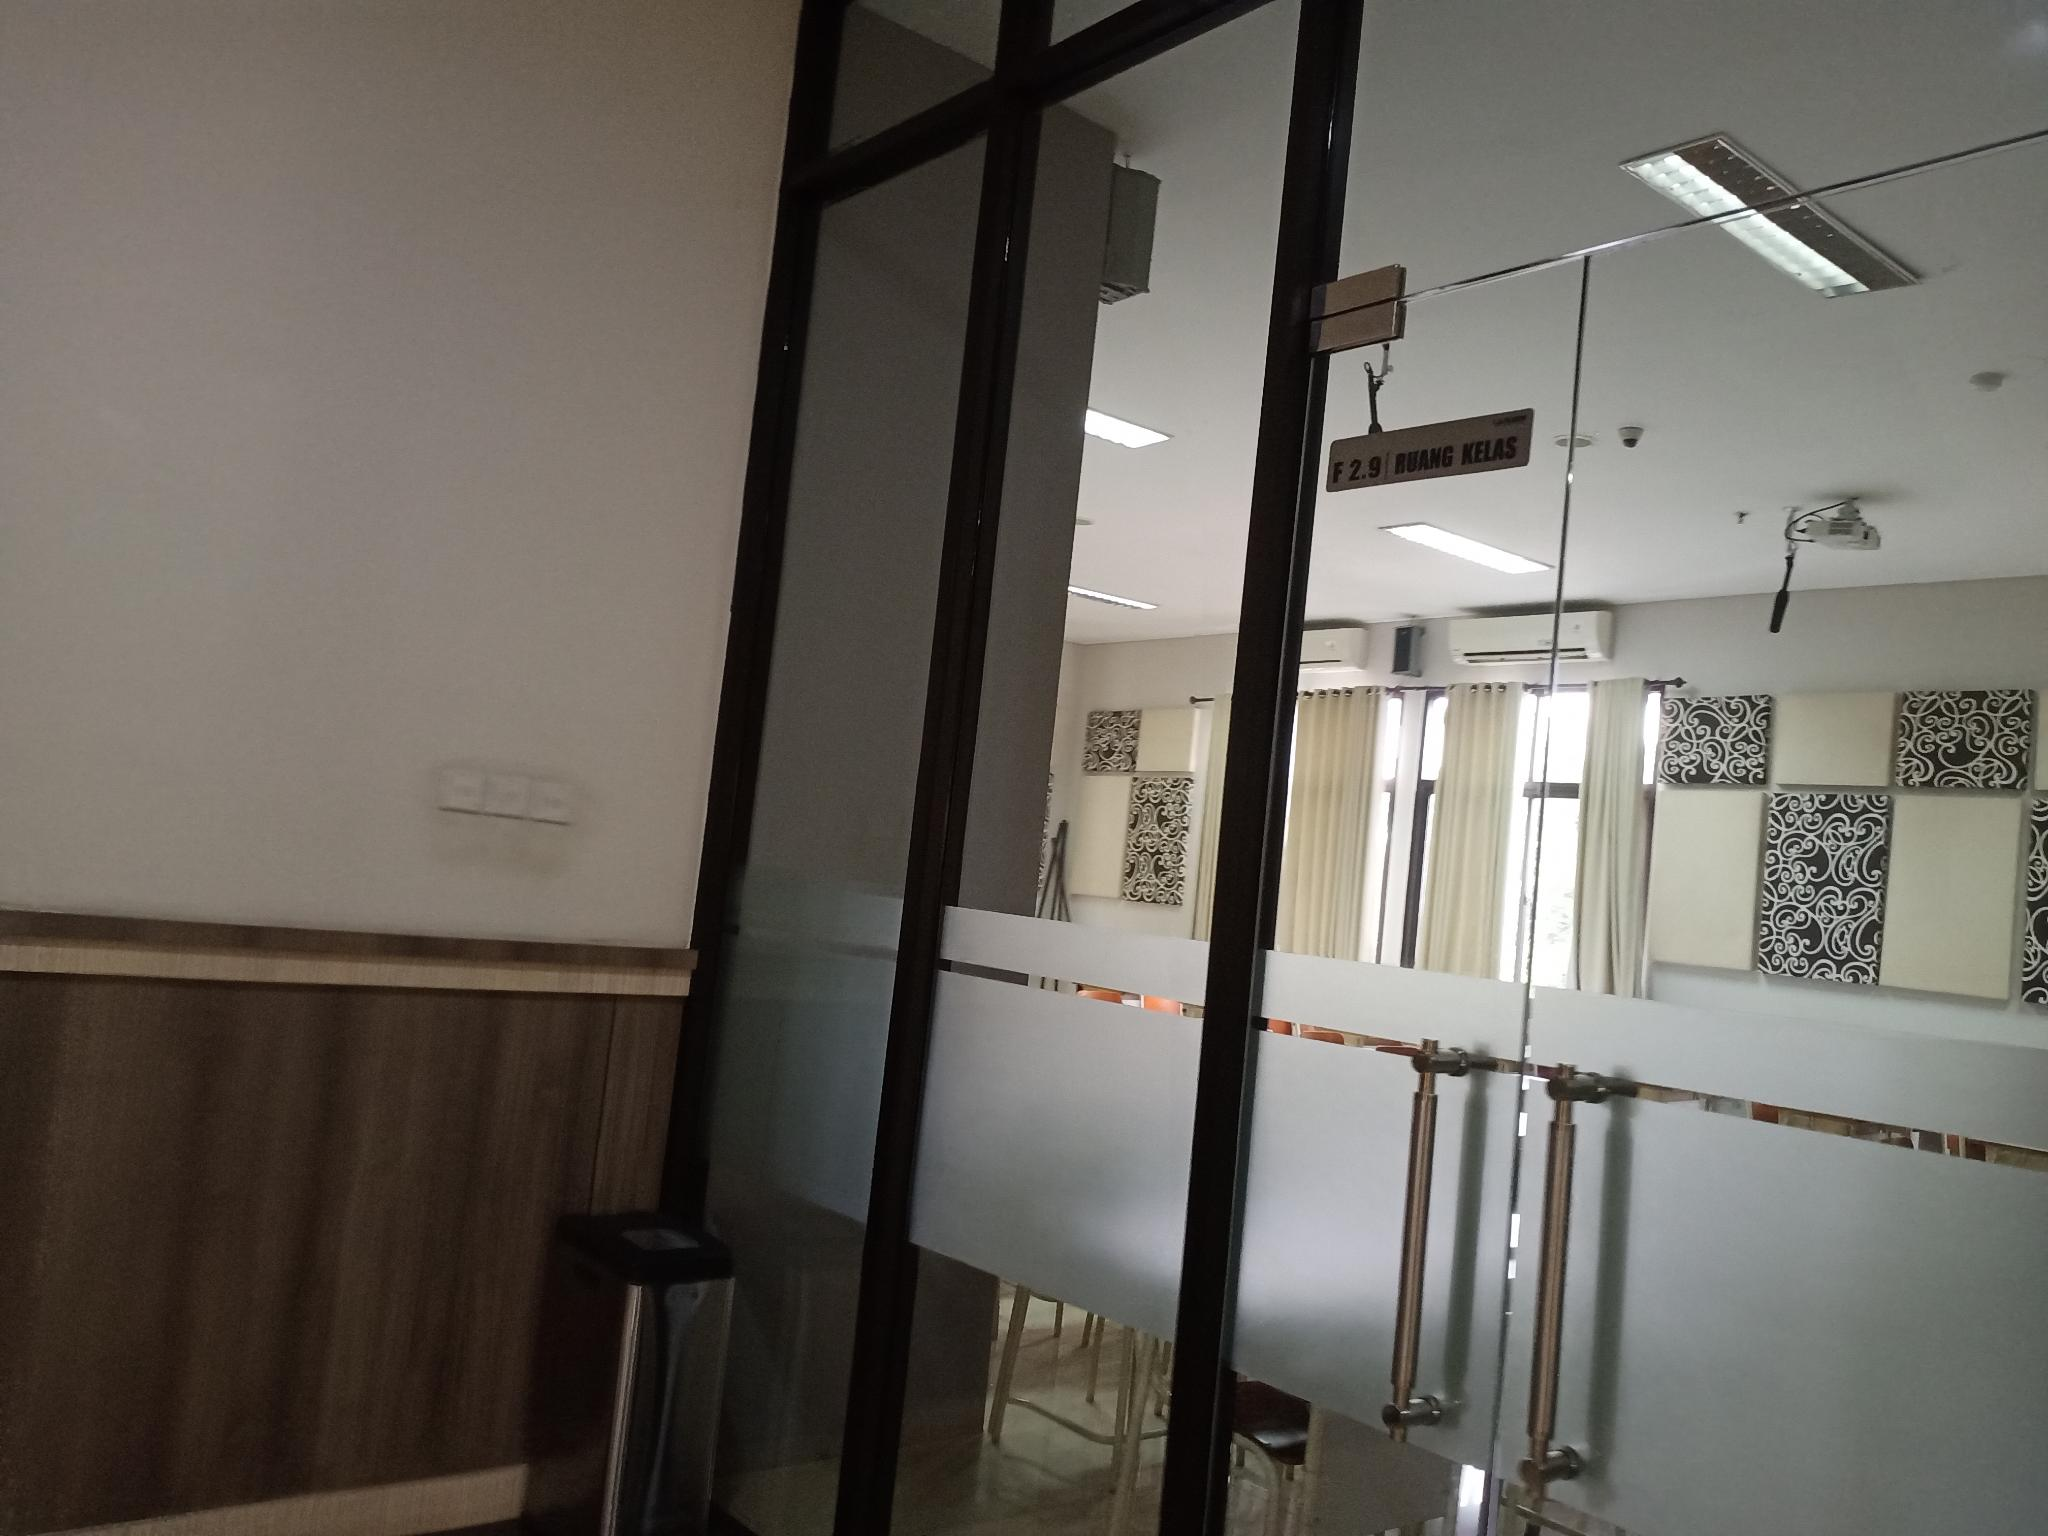plate: (1324, 407, 1534, 494)
